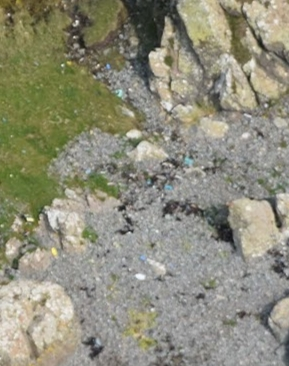scattered_barrel: (158, 152, 203, 194), (94, 59, 139, 101), (125, 247, 170, 289)
